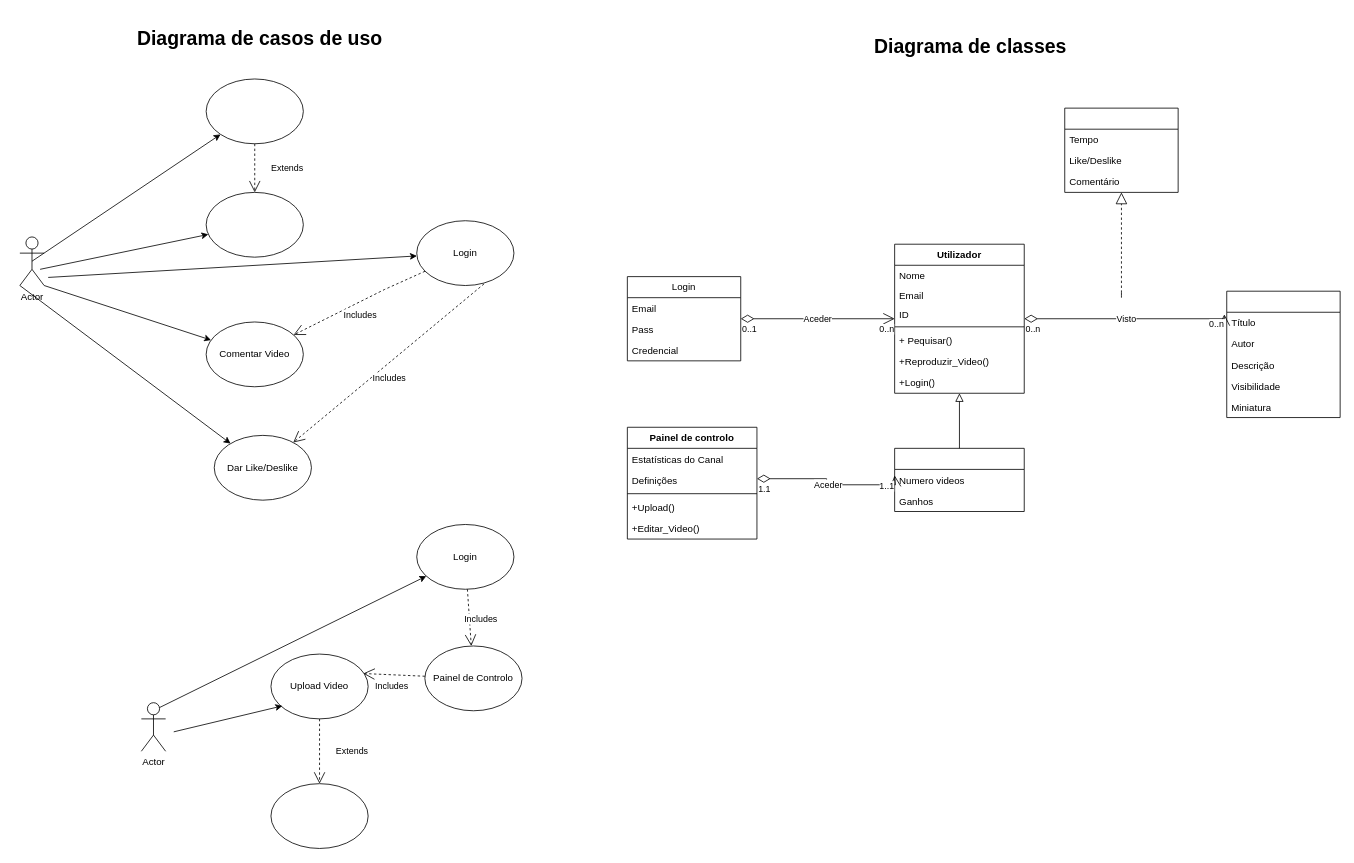
Some shapes in this 1354 by 863 pixel diagram are drawn without their labels. The shapes that lost their labels are listed below. From the top down, each one's box as (x1, y1, x2, y2) in pixels, then its label:
(205, 78, 303, 144): Pesquisar Video
(1064, 107, 1178, 192): Visualização Video
(205, 192, 303, 257): Abrir Video
(1226, 290, 1340, 418): Video
(894, 448, 1024, 512): Criador de Conteúdo
(270, 783, 368, 848): Edição Video
